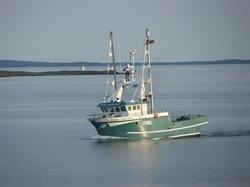otherboat: (87, 22, 210, 141)
